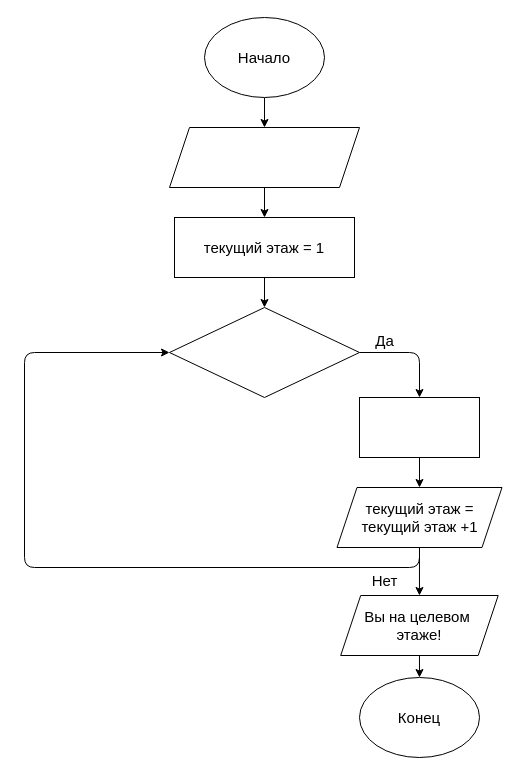
The diagram is 520 pixels wide and 775 high, and some of its shapes have lost their labels. The centre of each missing label's shape, as x and y in pixels:
"Ввод: целевой этаж (N)" goes at point 264,157.
"Поднять на этаж выше" goes at point 419,427.
"Текущий этаж < N?" goes at point 264,352.
